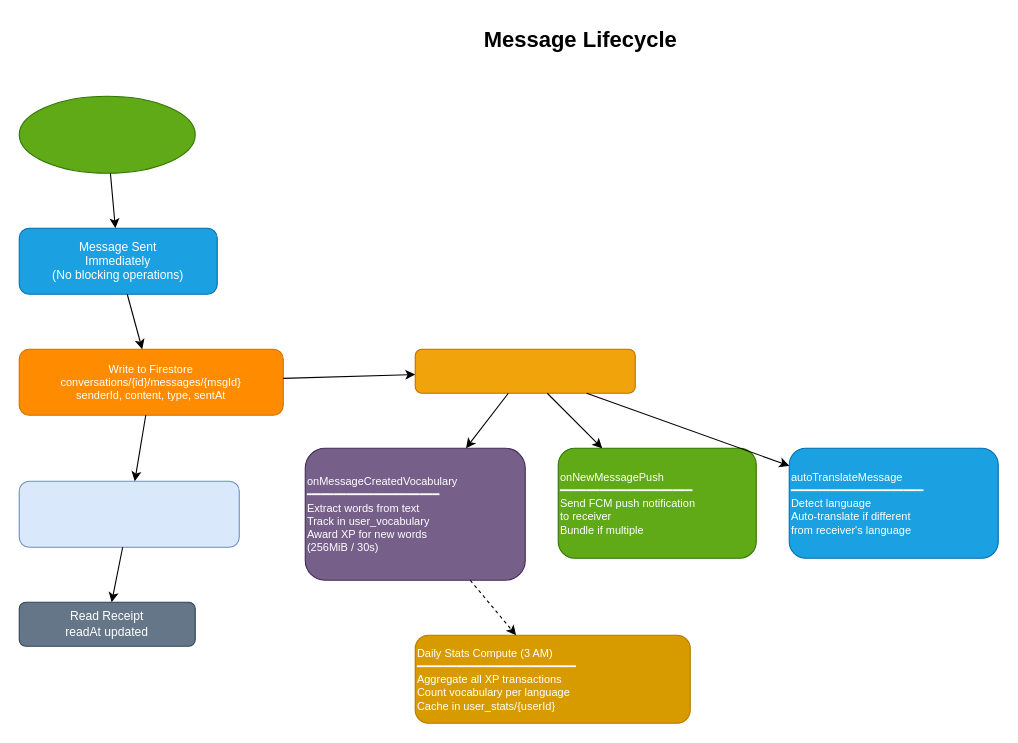
This 1018x743 diagram has some shape labels left out. The box of each missing label's shape, as (x1, y1, x2, y2) in pixels:
Firestore Triggers Fire: (414, 348, 635, 393)
Receiver Gets Real-time Update (Firestore listener): (18, 480, 239, 547)
User Types Message in Chat Screen: (18, 95, 195, 173)
